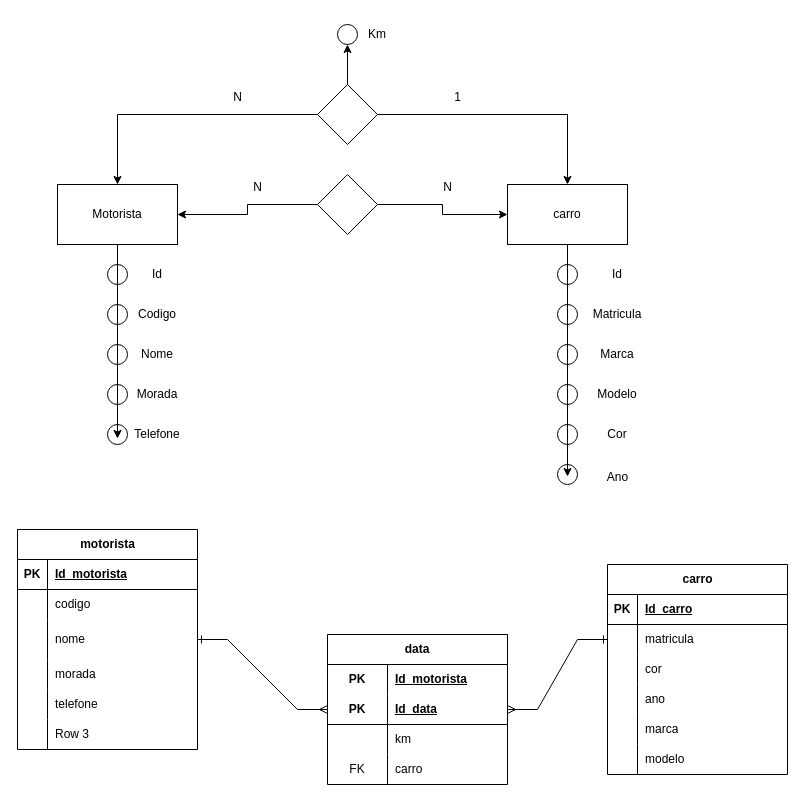
Some shapes in this 805 by 802 pixel diagram are drawn without their labels. Here are the shapes that lost their labels. From the top down, the centre of each, then its label:
At pixel 347 114: "diaria".
At pixel 347 204: "dirigi".
